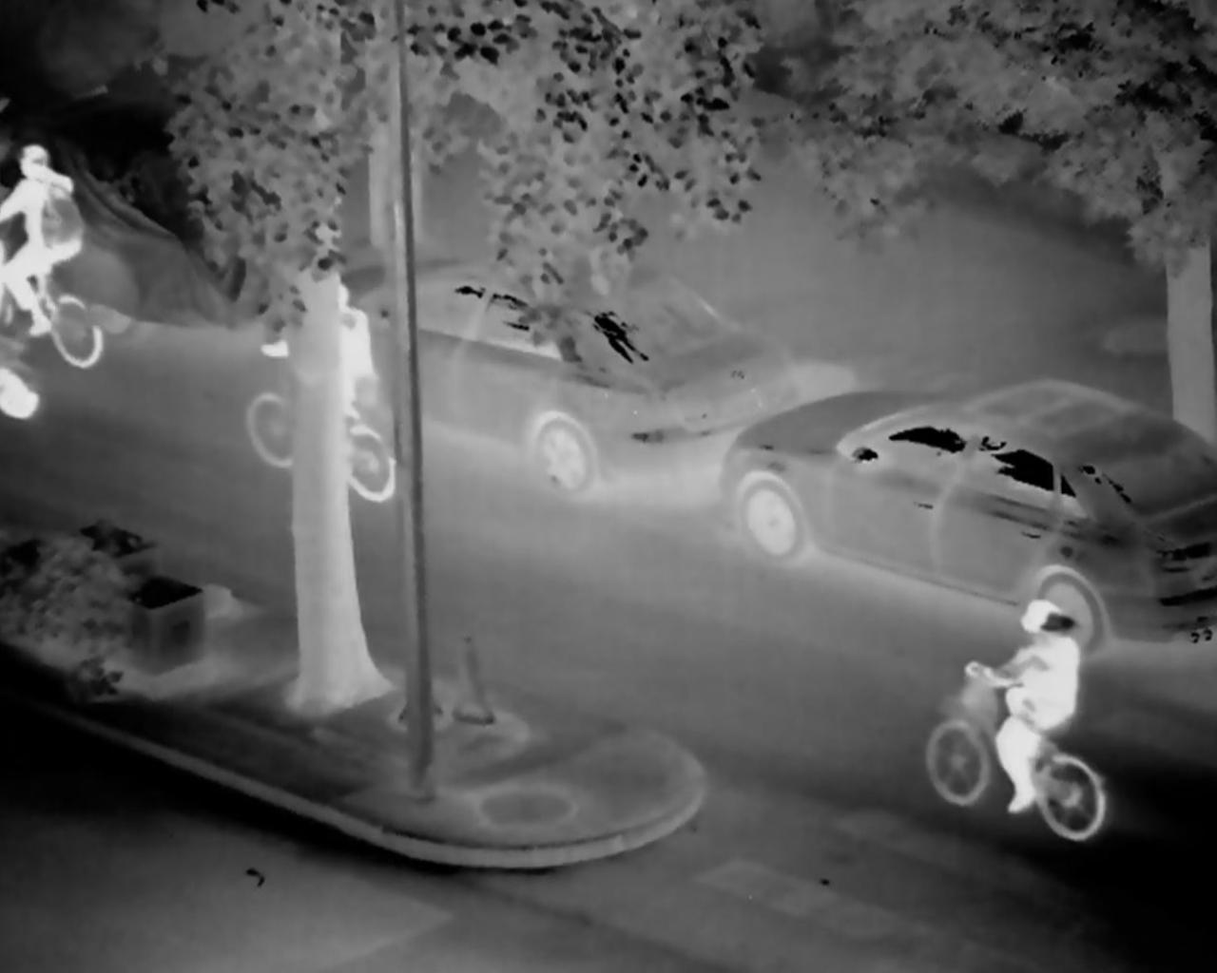person: (966, 599, 1087, 830), (271, 280, 383, 421)
